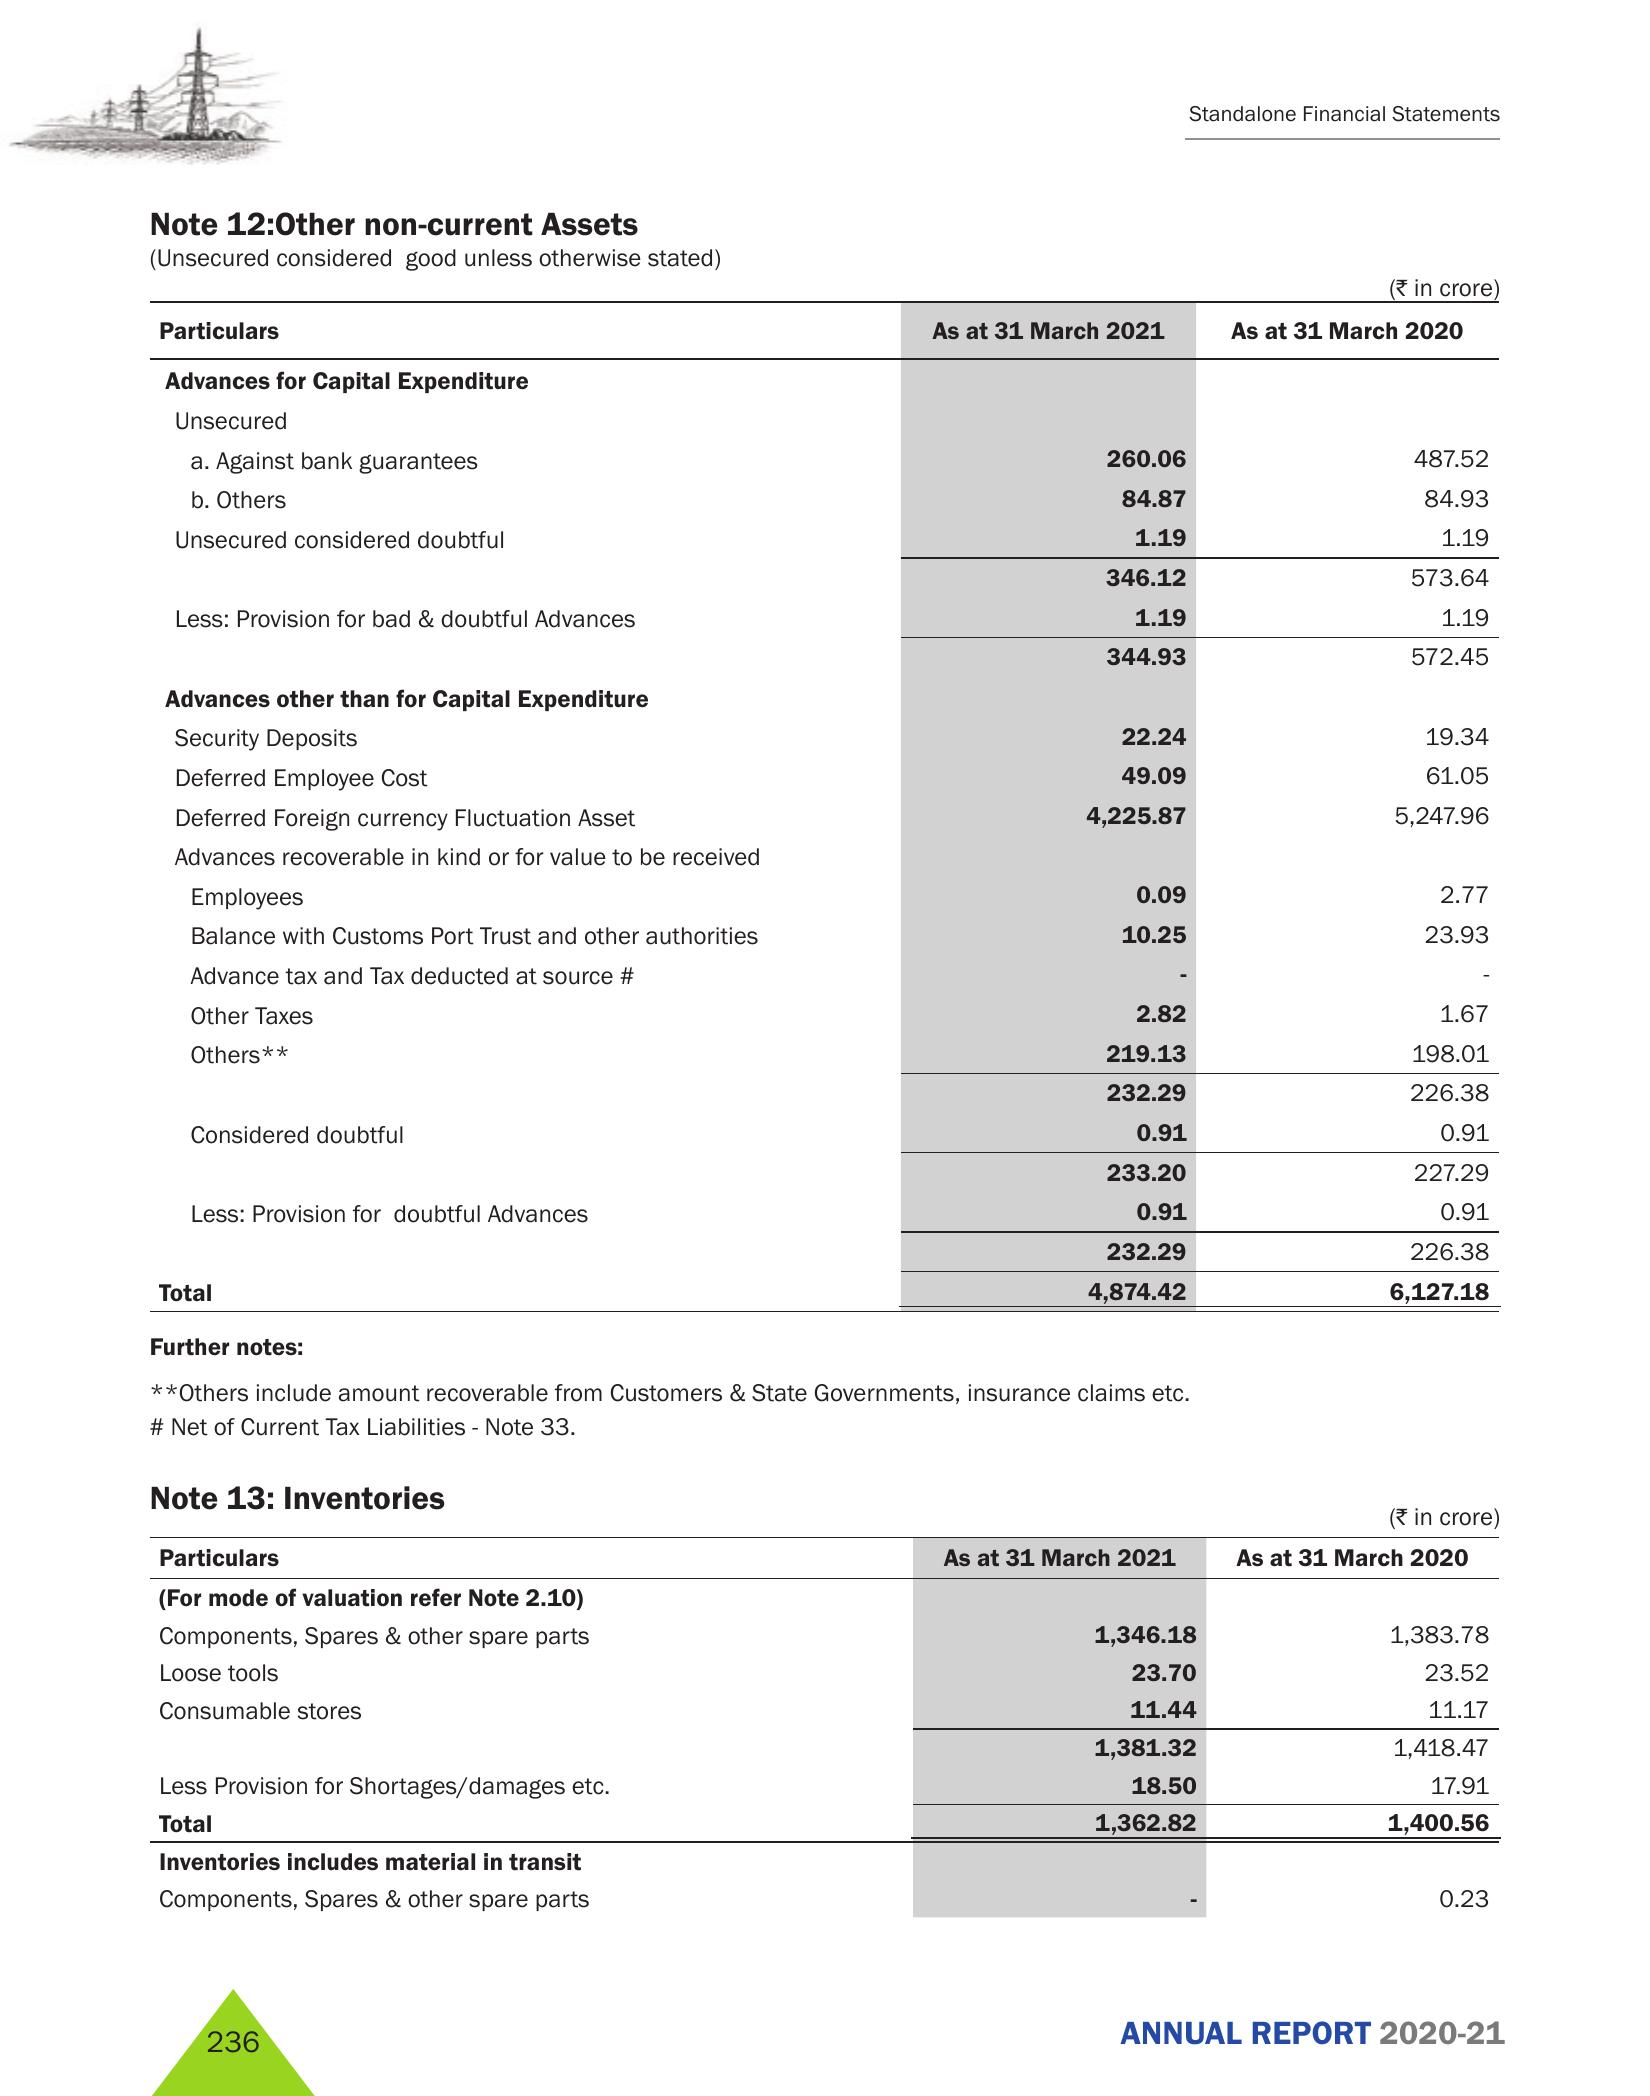Footer: (0, 1974, 1650, 2096)
Header: (0, 0, 1650, 184)
Table: (126, 298, 1524, 1341), (126, 1519, 1533, 1912)
